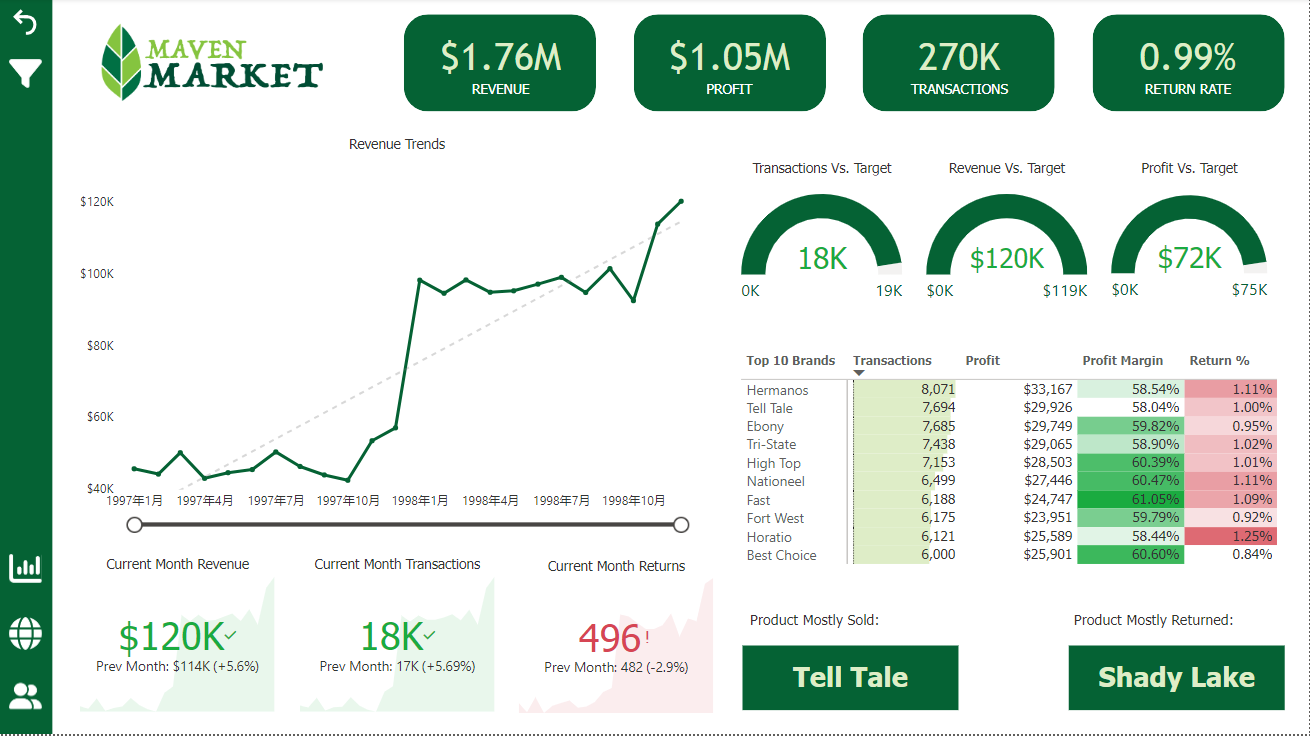

Layout of this report page (visuals, bound fields, positions):
{"tool":"powerbi","page":{"name":"Summary Dashboard","canvas":[1280,720],"ordinal":0},"visuals":[{"type":"card","fields":{"Values":["Measure Table.Total Revenue"]},"box":[406.8,10.1,165,107.6],"z":0,"group":"g2"},{"type":"image","title":"Icon","box":[69.7,14.7,273.8,96.6],"z":0},{"type":"shape","box":[394.6,15.9,188.3,95.3],"z":0,"group":"g1"},{"type":"card","fields":{"Values":["Measure Table.Total Profit"]},"box":[630.9,10.1,165,107.6],"z":1000,"group":"g2"},{"type":"group","id":"g1","title":"Card Background","box":[394.6,15.9,861.8,95.3],"z":1000},{"type":"shape","box":[619.1,15.9,188.3,95.3],"z":1000,"group":"g1"},{"type":"group","id":"g2","title":"Cards","box":[406.8,10.1,837.4,107.6],"z":2000},{"type":"card","fields":{"Values":["Measure Table.Total Transactions"]},"box":[855,10.1,165,107.6],"z":2000,"group":"g2"},{"type":"shape","box":[843.6,15.9,188.3,95.3],"z":2000,"group":"g1"},{"type":"card","fields":{"Values":["Measure Table.Return Rate"]},"box":[1079.1,10.1,165,107.6],"z":3000,"group":"g2"},{"type":"shape","box":[1068.1,15.9,188.3,95.3],"z":3000,"group":"g1"},{"type":"lineChart","title":"Revenue Trends","fields":{"Category":["Calendar.Date Hierarchy.Year","Calendar.Date Hierarchy.Quarter","Calendar.Date Hierarchy.Start of Month","Calendar.Date Hierarchy.Start of Week"],"Y":["Measure Table.Total Revenue"]},"box":[73.3,134.5,629.5,391.2],"z":3000},{"type":"kpi","title":"Current Month Revenue","fields":{"Indicator":["Measure Table.Total Revenue"],"TrendLine":["Calendar.Start of Month"],"Goal":["Measure Table.Last Month Revenue"]},"box":[73.3,545.2,200.5,157.7],"z":4000},{"type":"kpi","title":"Current Month Transactions","fields":{"Indicator":["Measure Table.Total Transactions"],"TrendLine":["Calendar.Start of Month"],"Goal":["Measure Table.Last Month Transactions"]},"box":[288.1,545.2,200,157.7],"z":5000},{"type":"kpi","title":"Current Month Returns","fields":{"Indicator":["Measure Table.Total Returns"],"TrendLine":["Calendar.Start of Month"],"Goal":["Measure Table.Last Month Returns"]},"box":[502.4,546.4,200.5,157.7],"z":6000},{"type":"pivotTable","fields":{"Values":["Measure Table.Total Transactions","Measure Table.Total Profit","Measure Table.Profit Margin","Measure Table.Return Rate"],"Rows":["Products.product_brand"]},"box":[720,342.3,536.6,226.1],"z":7000},{"type":"card","fields":{"Values":["Min(Products.product_brand)"]},"box":[726.1,633.2,211.5,63.6],"z":8000},{"type":"card","fields":{"Values":["Min(Products.product_brand)"]},"box":[1045.2,633.2,211.5,63.6],"z":9000},{"type":"gauge","title":"Transactions Vs. Target","fields":{"MaxValue":["Measure Table.Transaction Target"],"Y":["Measure Table.Total Transactions"]},"box":[720,157.7,167.5,162.6],"z":10000},{"type":"textbox","box":[728.6,594.1,156.5,33],"z":11000},{"type":"textbox","box":[1045.2,594.1,178.5,33],"z":12000},{"type":"gauge","title":"Revenue Vs. Target","fields":{"Y":["Measure Table.Total Revenue"],"MaxValue":["Measure Table.Revenue Target"]},"box":[900.9,157.7,167.5,162.6],"z":13000},{"type":"gauge","title":"Profit Vs. Target","fields":{"MaxValue":["Measure Table.Profit Target"],"Y":["Measure Table.Total Profit"]},"box":[1081.8,157.7,162.6,162.6],"z":14000},{"type":"shape","box":[0,0,51.3,720],"z":15000},{"type":"actionButton","box":[7.3,6.1,36.7,34.2],"z":16000},{"type":"actionButton","box":[4.9,53.8,44,40.3],"z":17000},{"type":"actionButton","box":[4.9,537.9,41.6,40.3],"z":19000},{"type":"actionButton","box":[4.9,601.6,41.6,40.3],"z":20000},{"type":"actionButton","box":[4.9,662.8,41.6,40.3],"z":21000}]}

Visuals, with their boxes on the page's 1280x720 design canvas (x1, y1, x2, y2). These are canvas units, not pixel positions in the 1310x736 screenshot, which may show the page scaled, cropped or inside an application window:
card - Measure Table.Total Revenue: <bbox>407, 10, 572, 118</bbox>
"Icon" image: <bbox>70, 15, 344, 111</bbox>
shape: <bbox>395, 16, 583, 111</bbox>
card - Measure Table.Total Profit: <bbox>631, 10, 796, 118</bbox>
"Card Background" group: <bbox>395, 16, 1256, 111</bbox>
shape: <bbox>619, 16, 807, 111</bbox>
"Cards" group: <bbox>407, 10, 1244, 118</bbox>
card - Measure Table.Total Transactions: <bbox>855, 10, 1020, 118</bbox>
shape: <bbox>844, 16, 1032, 111</bbox>
card - Measure Table.Return Rate: <bbox>1079, 10, 1244, 118</bbox>
shape: <bbox>1068, 16, 1256, 111</bbox>
"Revenue Trends" lineChart: <bbox>73, 134, 703, 526</bbox>
"Current Month Revenue" kpi: <bbox>73, 545, 274, 703</bbox>
"Current Month Transactions" kpi: <bbox>288, 545, 488, 703</bbox>
"Current Month Returns" kpi: <bbox>502, 546, 703, 704</bbox>
pivotTable - Measure Table.Total Transactions x Measure Table.Total Profit: <bbox>720, 342, 1257, 568</bbox>
card - Min(Products.product_brand): <bbox>726, 633, 938, 697</bbox>
card - Min(Products.product_brand): <bbox>1045, 633, 1257, 697</bbox>
"Transactions Vs. Target" gauge: <bbox>720, 158, 888, 320</bbox>
textbox: <bbox>729, 594, 885, 627</bbox>
textbox: <bbox>1045, 594, 1224, 627</bbox>
"Revenue Vs. Target" gauge: <bbox>901, 158, 1068, 320</bbox>
"Profit Vs. Target" gauge: <bbox>1082, 158, 1244, 320</bbox>
shape: <bbox>0, 0, 51, 720</bbox>
actionButton: <bbox>7, 6, 44, 40</bbox>
actionButton: <bbox>5, 54, 49, 94</bbox>
actionButton: <bbox>5, 538, 46, 578</bbox>
actionButton: <bbox>5, 602, 46, 642</bbox>
actionButton: <bbox>5, 663, 46, 703</bbox>
